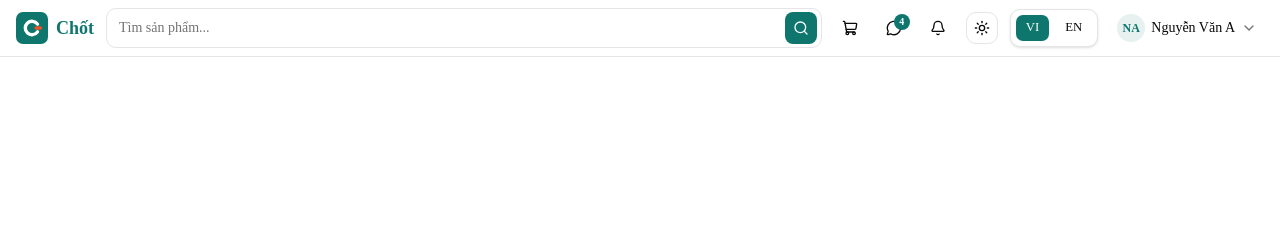
Test case: Header — tin nhắn (Week10.md 5.5, D8) › menu tài khoản có "Tin nhắn" trỏ /chat kèm huy hiệu người mua; chưa có shop thì KHÔNG có "Tin nhắn của khách"
Step 1. Click the button "NA Nguyễn Văn A" → x=1187, y=28, box left=1110, top=12, right=1264, bottom=44
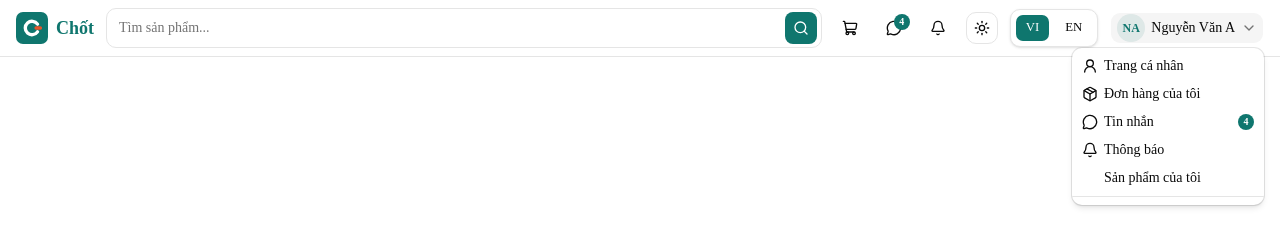
Now the text "4" next to "Tin nhắn" is shown, box left=1244, top=116, right=1248, bottom=127
